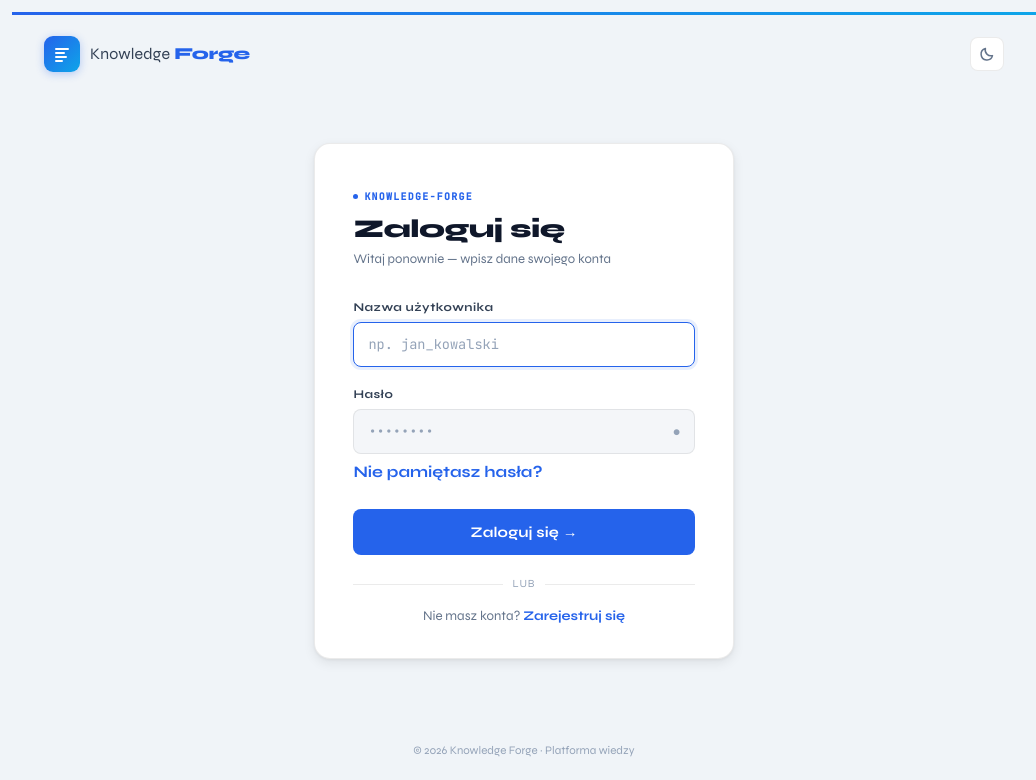
Scenario: LoginPage › validates, logs in, stores session and goes to dashboard
Click the button "Zaloguj się →". click: click(524, 532)
box: [353, 509, 695, 555]
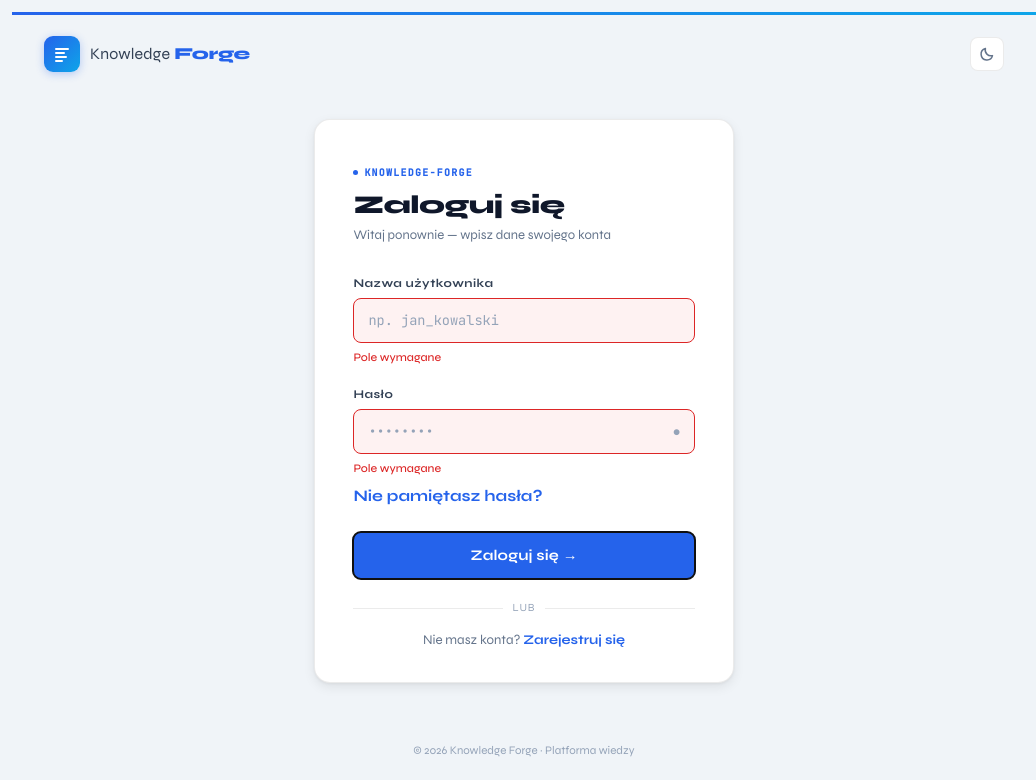
Check: the text "Pole wymagane" is shown 2 times, box [353, 350, 441, 364]; [353, 461, 441, 475]
Type "ala" into the field labelled "Nazwa użytkownika". click: (524, 321)
box: [353, 298, 695, 343]
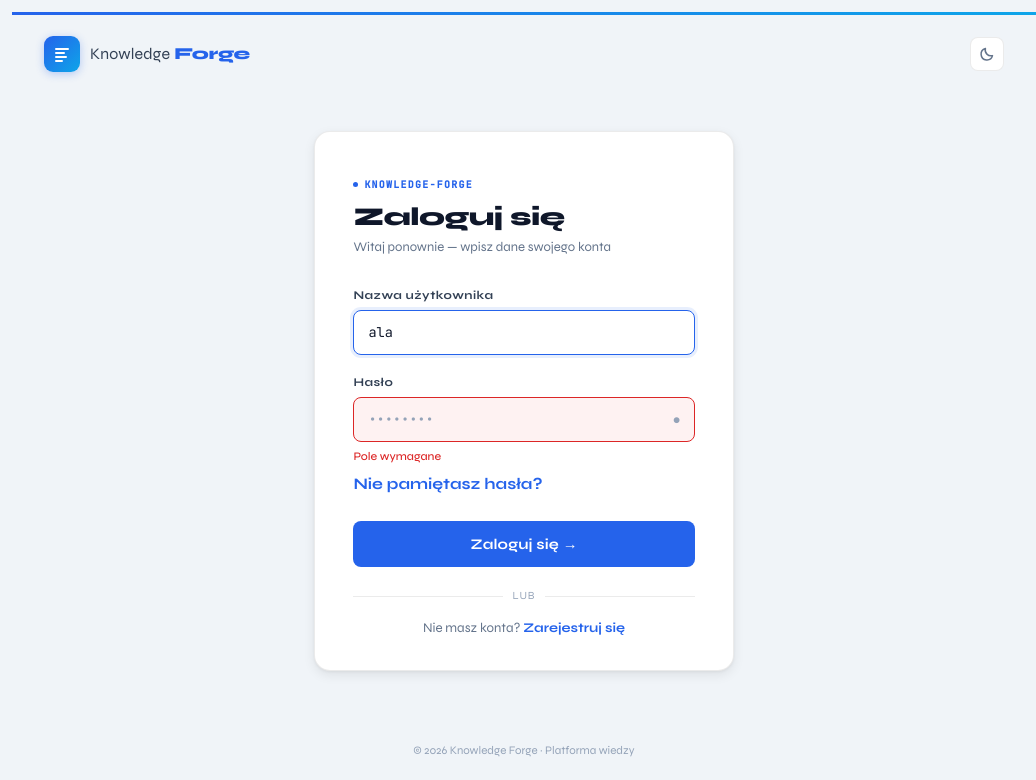
Type "Secret123" into the password field labelled "Hasło". click: (524, 420)
box: [353, 397, 695, 442]
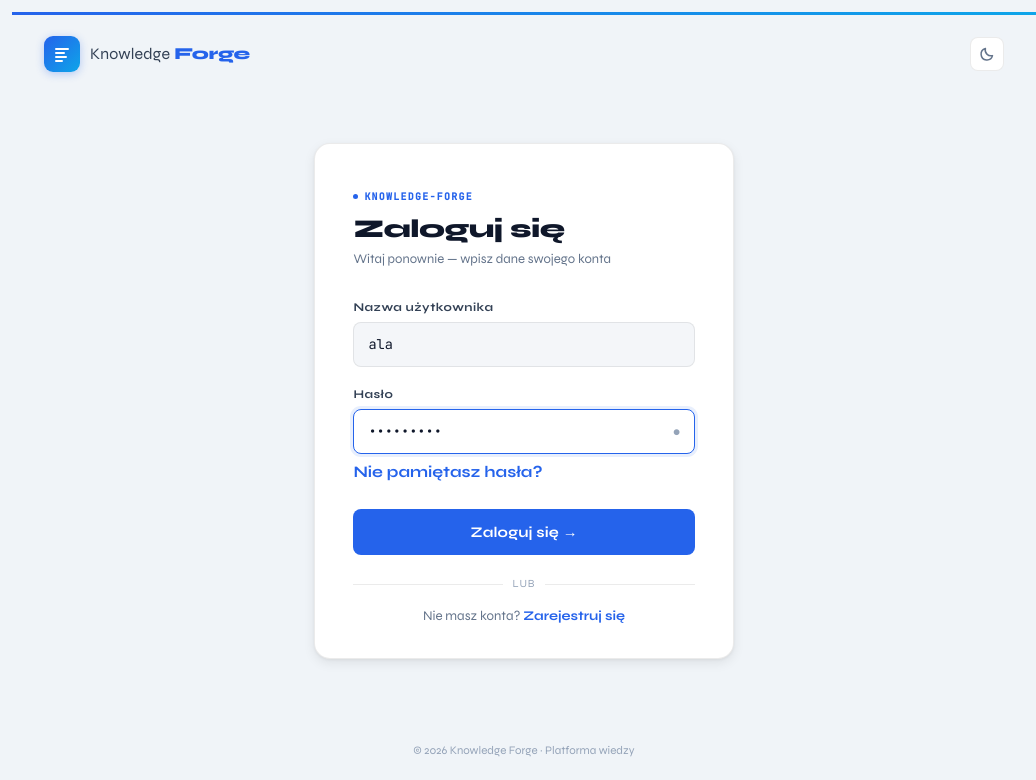
Click the button named "Pokaż hasło". click: click(676, 432)
box: [670, 423, 683, 440]
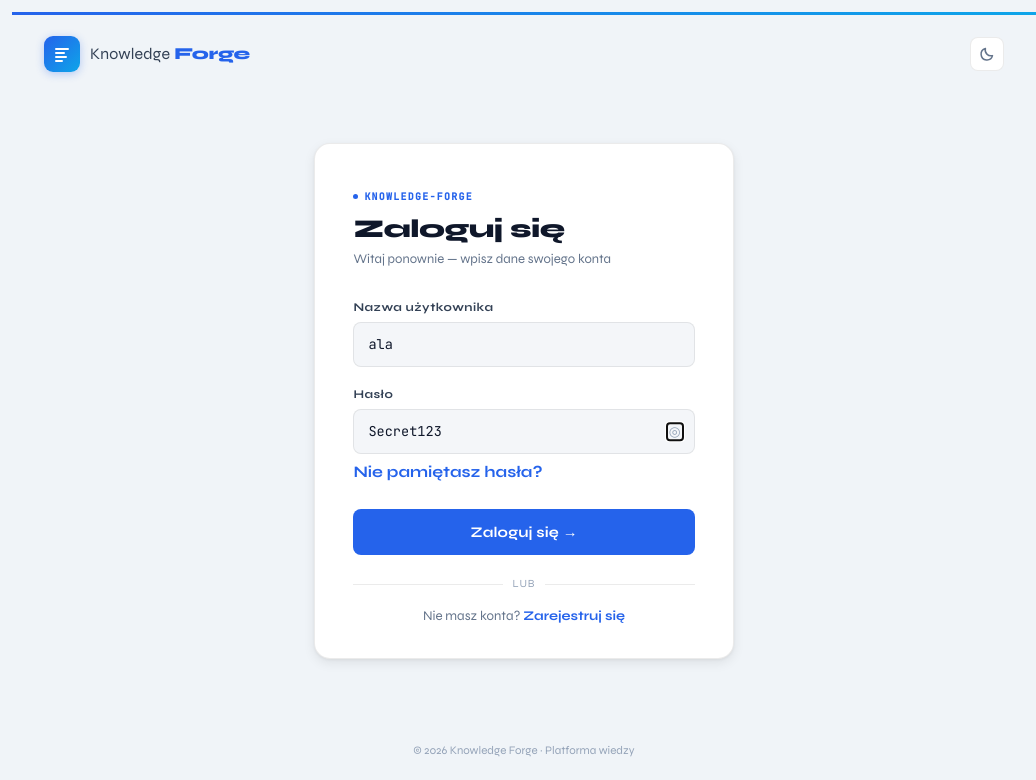
Click the button "Zaloguj się →". click: click(524, 532)
box: [353, 509, 695, 555]
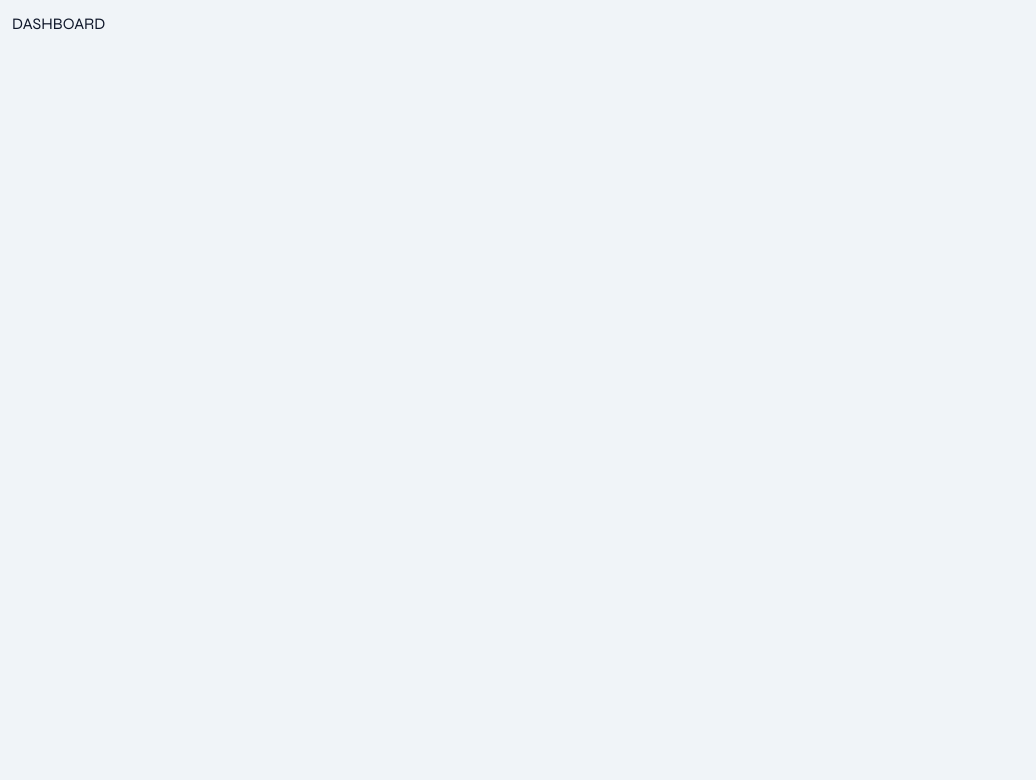
Check: the text "DASHBOARD" is shown, box [12, 14, 105, 33]
